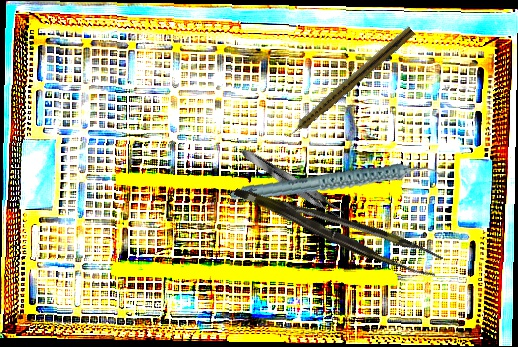Handpiece: (281, 23, 416, 143), (230, 146, 440, 223)
Tissue Forceps: (233, 162, 444, 290), (237, 143, 348, 223)
